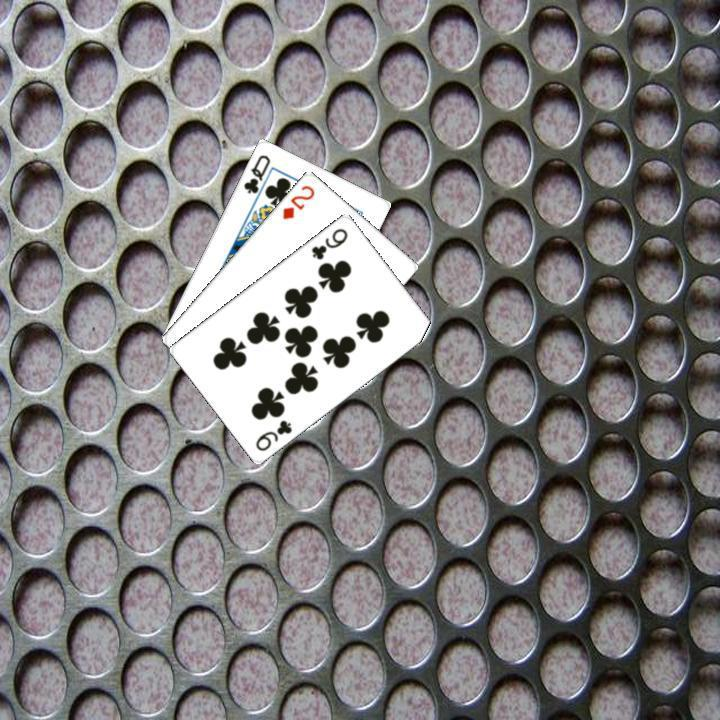2: (278, 180, 317, 221)
9: (307, 223, 350, 262), (251, 415, 294, 453)
Q: (239, 150, 272, 196)
